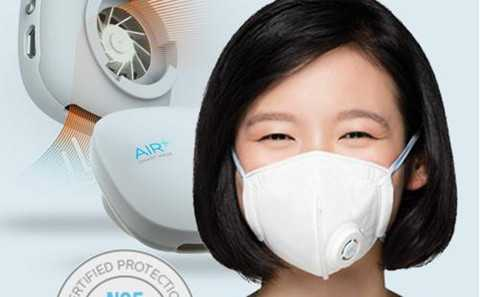face_mask: (236, 63, 403, 275)
